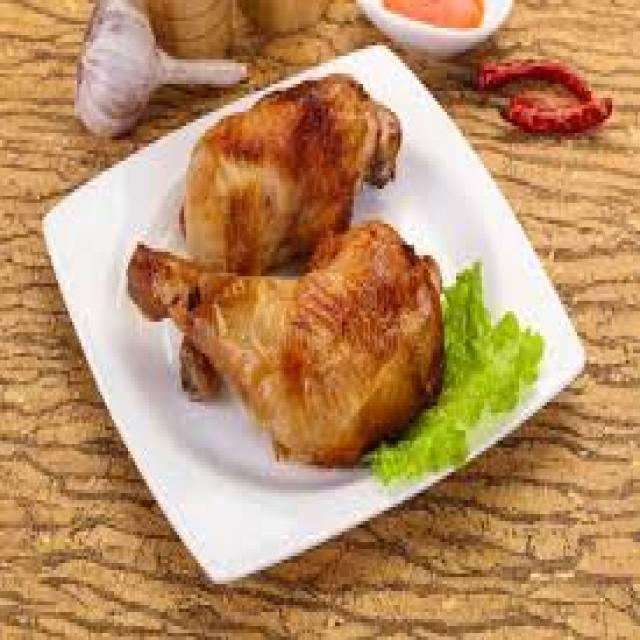Frango: (119, 74, 452, 462)
